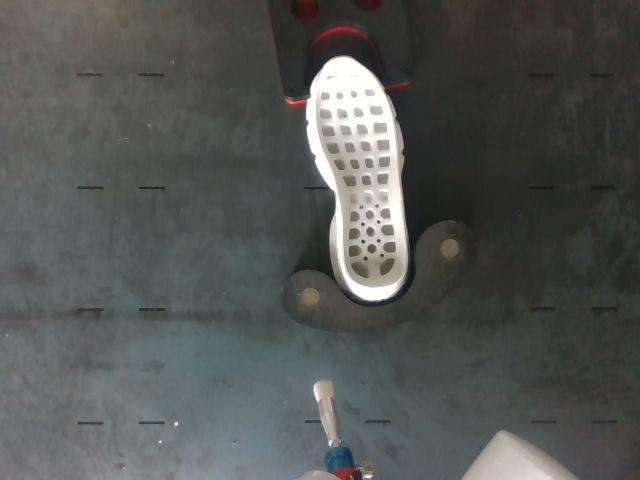shoes: (313, 56, 408, 289)
